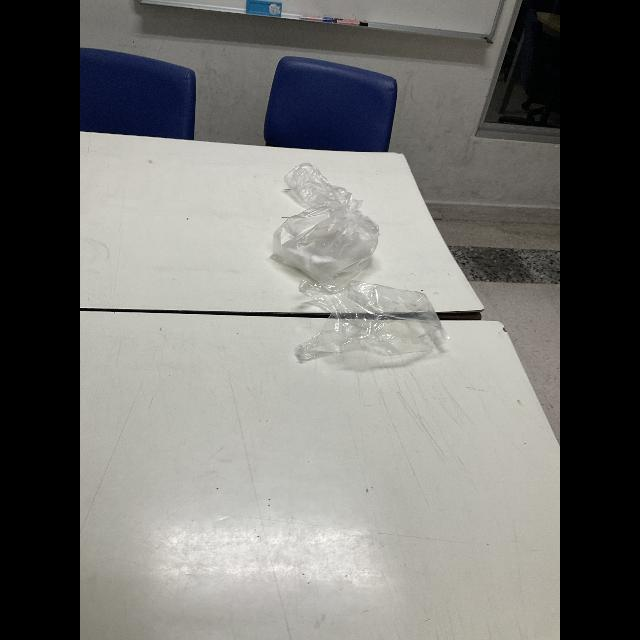plastic_bag: (287, 284, 455, 374), (276, 211, 396, 289), (276, 152, 358, 212)
